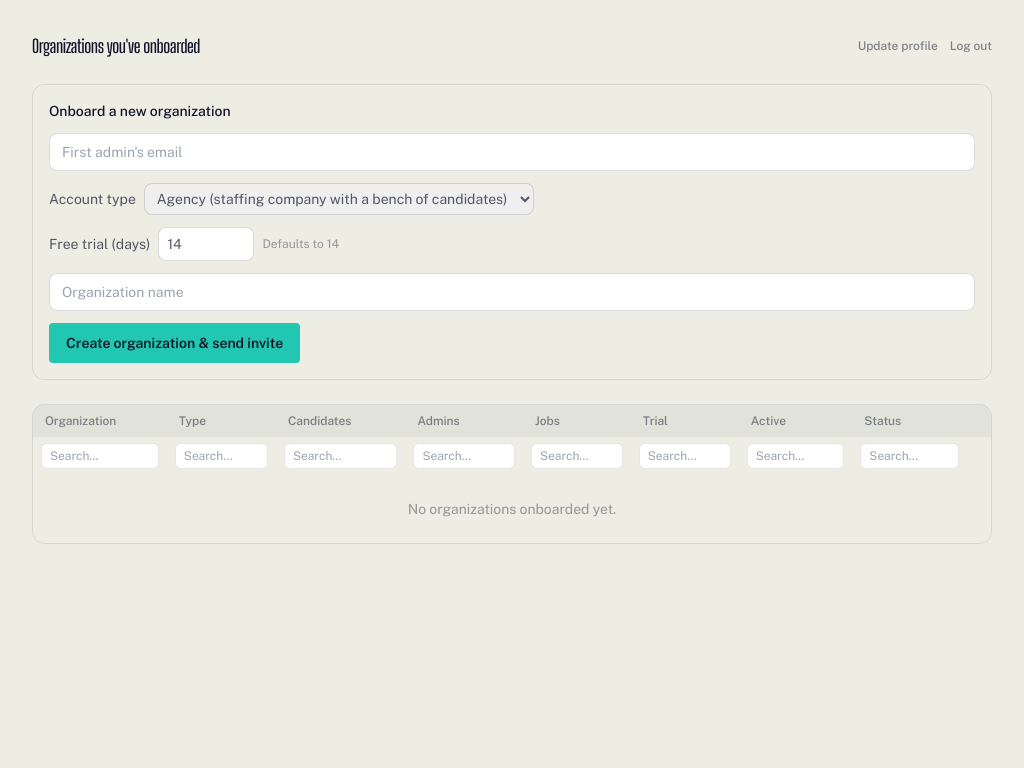
Test: StaffDashboard › submits the onboarding form with organization name, admin email, account type, and default trial_days
The width and height of the screenshot is (1024, 768).
Check: the text "No organizations onboarded yet." is shown, box x1=33 y1=475 x2=991 y2=543
Type "Beta Corp" into the field with placeholder "Organization name" at [512, 292], box x1=49 y1=273 x2=975 y2=311
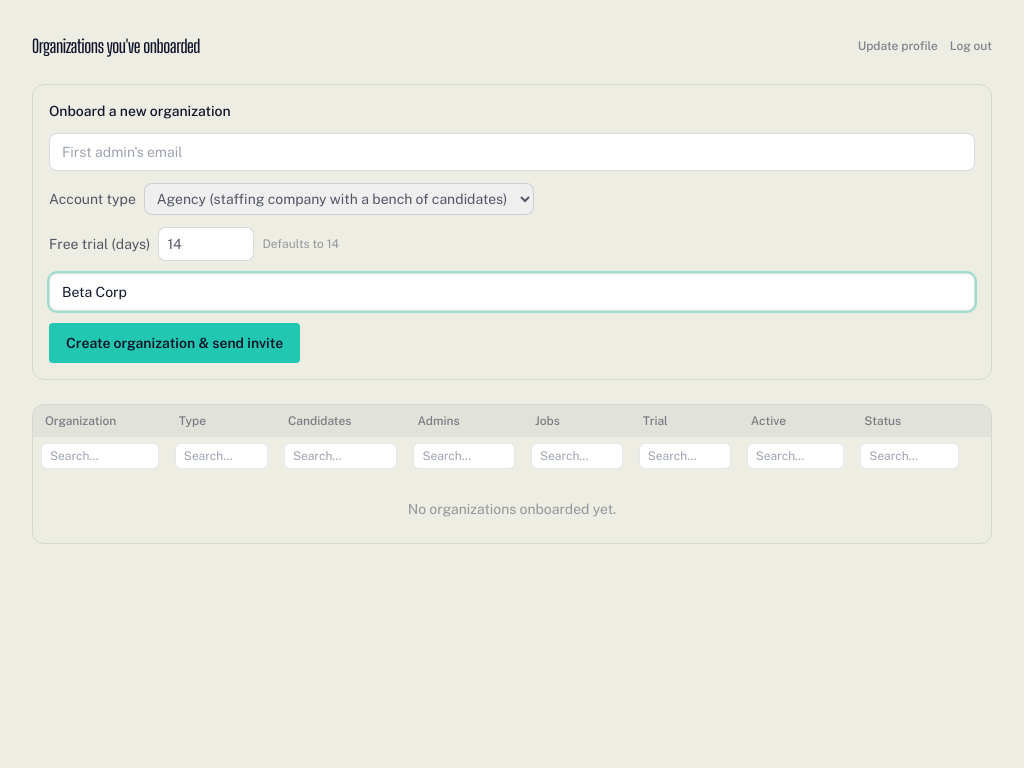
Type "admin@beta.com" into the field with placeholder "First admin's email" at [512, 152], box x1=49 y1=133 x2=975 y2=171
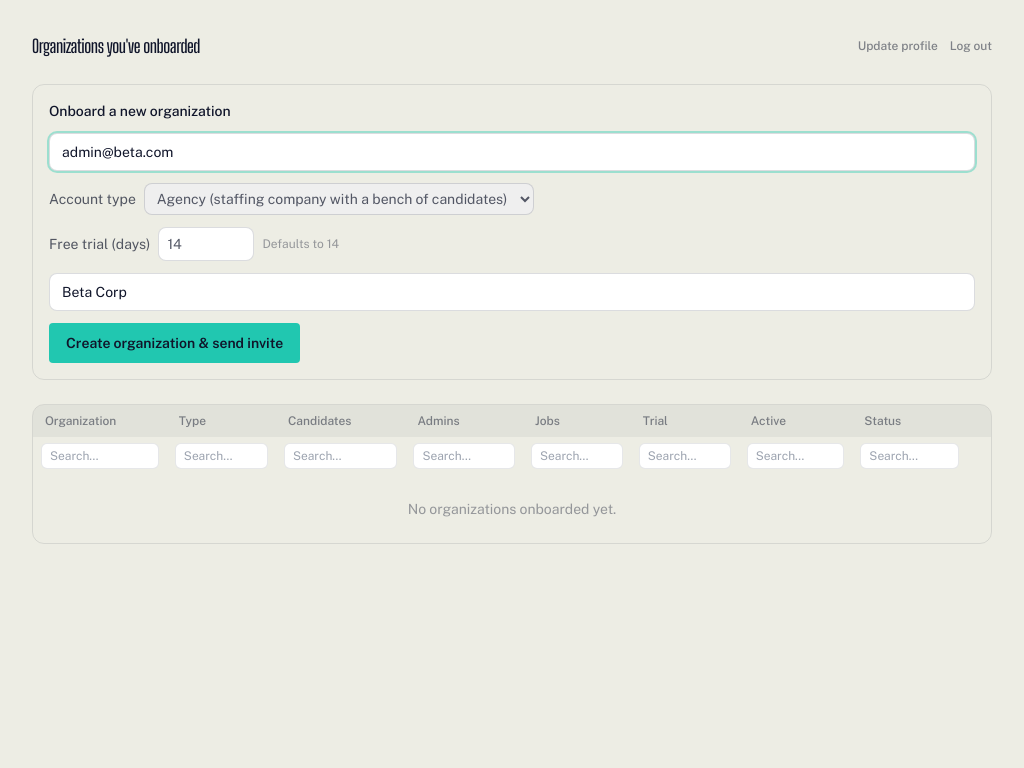
Click the button "Create organization & send invite" at [175, 343], box x1=49 y1=323 x2=300 y2=363
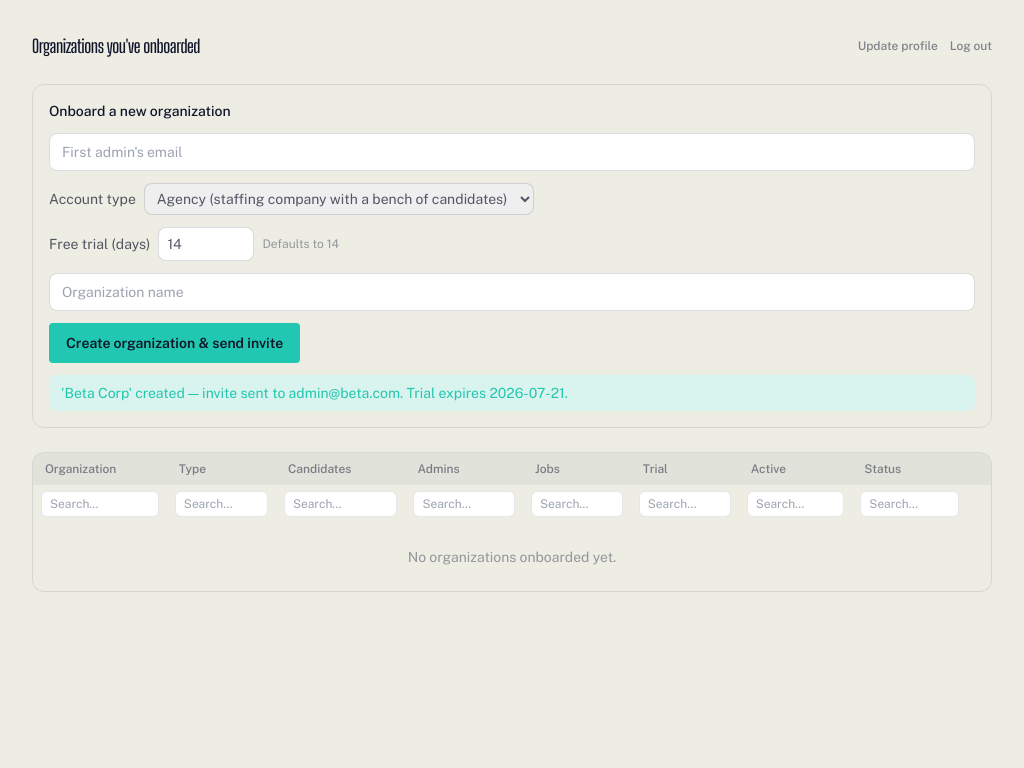
Check: the text "Trial expires 2026-07-21" is shown, box x1=61 y1=385 x2=568 y2=401
